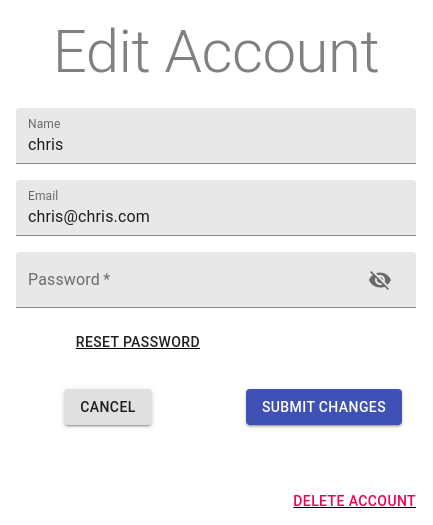
Test case: renders Edit Account page
Expected: the heading "Edit Account" is shown, [53,16,379,87]
Expected: the field showing "chris" next to "Name" is shown, [16,108,416,164]
In the password field with placeholder "Password": (182, 280) [16,252,348,308], type "test"
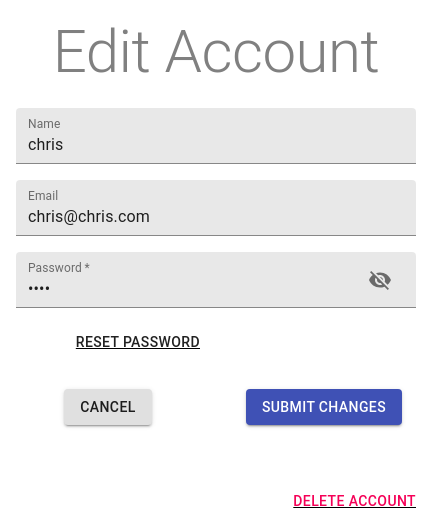
Expected: the text "test" is not shown
Click the button named "toggle password visibility": (380, 280) [356,256,404,304]
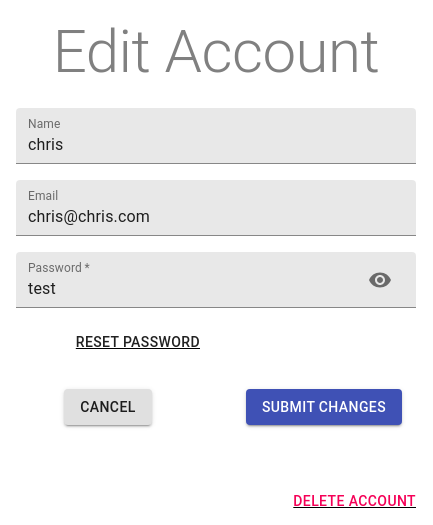
Expected: the button "Reset Password" is shown, [68,324,208,360]
Expected: the 3rd field showing "test" shows its text, [16,252,348,308]
